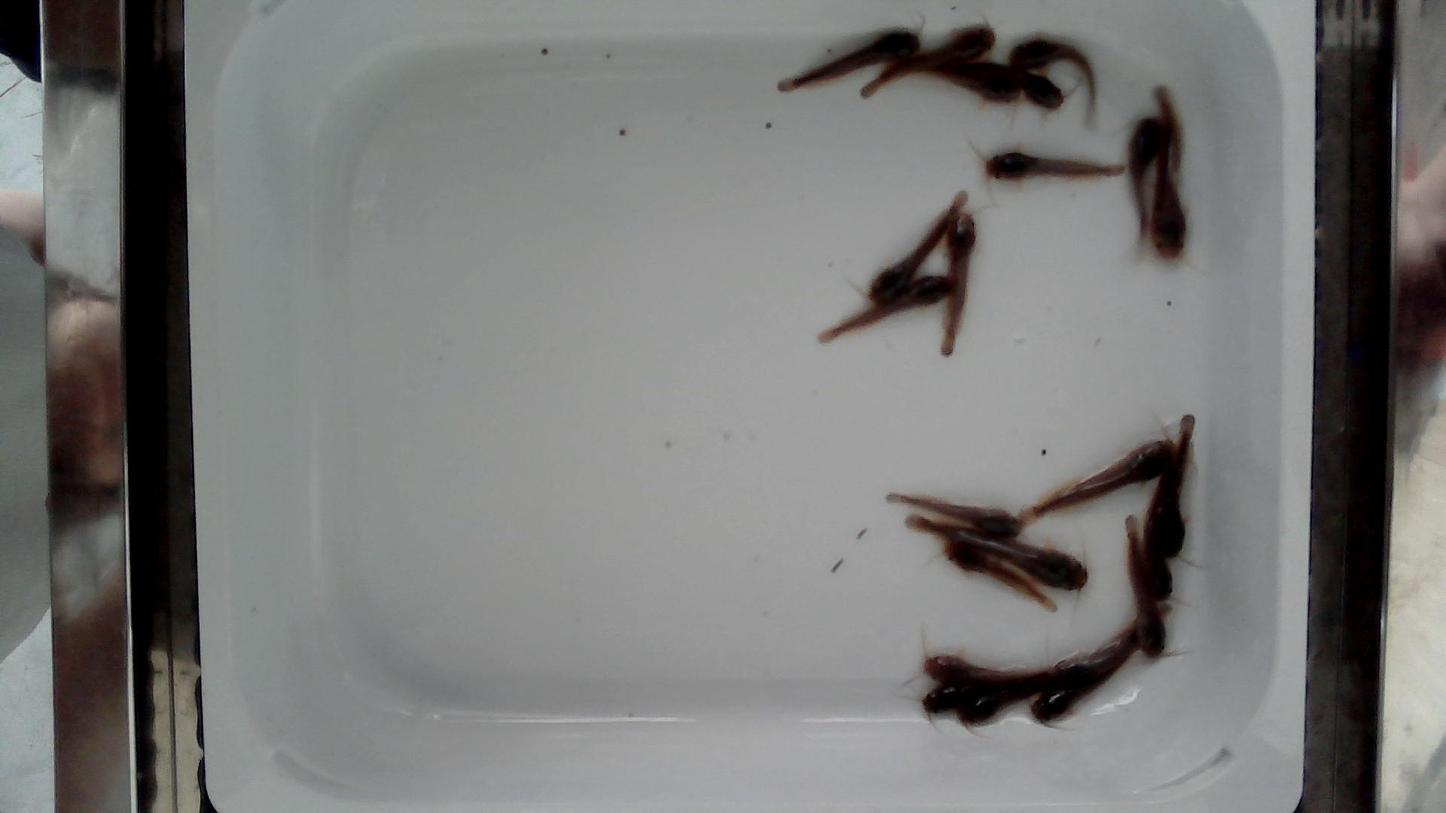lele: (904, 514, 1088, 591), (1031, 439, 1177, 517), (870, 191, 968, 307), (857, 27, 996, 100), (817, 274, 953, 347), (943, 539, 1059, 616), (778, 29, 920, 90), (1044, 617, 1140, 691), (1124, 517, 1172, 658), (1151, 86, 1189, 261), (1008, 35, 1094, 111), (939, 59, 1063, 111), (883, 492, 1024, 537), (1126, 116, 1164, 255), (1160, 410, 1195, 558), (939, 213, 975, 355), (958, 672, 1045, 726), (1141, 459, 1173, 602), (985, 151, 1123, 180), (1032, 677, 1111, 725), (922, 653, 1046, 682), (921, 678, 1019, 714), (923, 70, 1021, 103)
